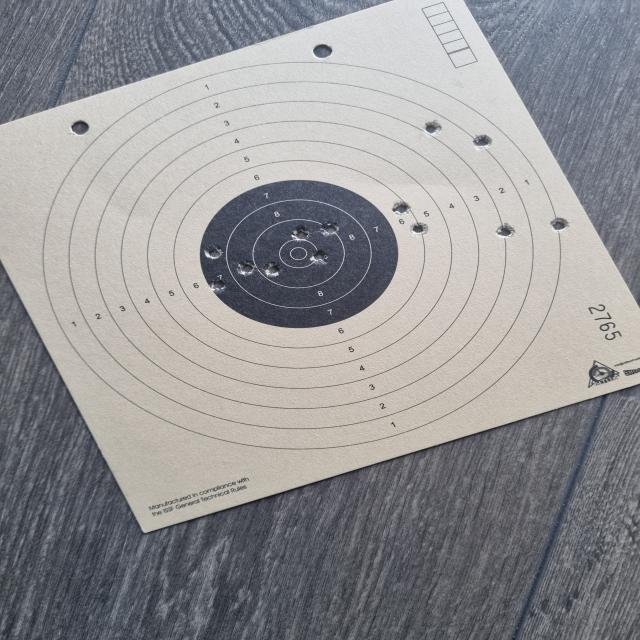1: (550, 217, 570, 232)
10: (318, 222, 340, 236), (262, 262, 281, 276)
2: (291, 228, 310, 242), (310, 250, 328, 264)
3: (472, 134, 492, 148)
4: (495, 222, 515, 238), (422, 120, 442, 136)
7: (409, 222, 428, 235), (392, 202, 411, 215)
8: (204, 245, 223, 259), (208, 279, 226, 291)
9: (236, 262, 256, 276)
Black Contour: (198, 180, 398, 327)
Target: (39, 60, 560, 450)
